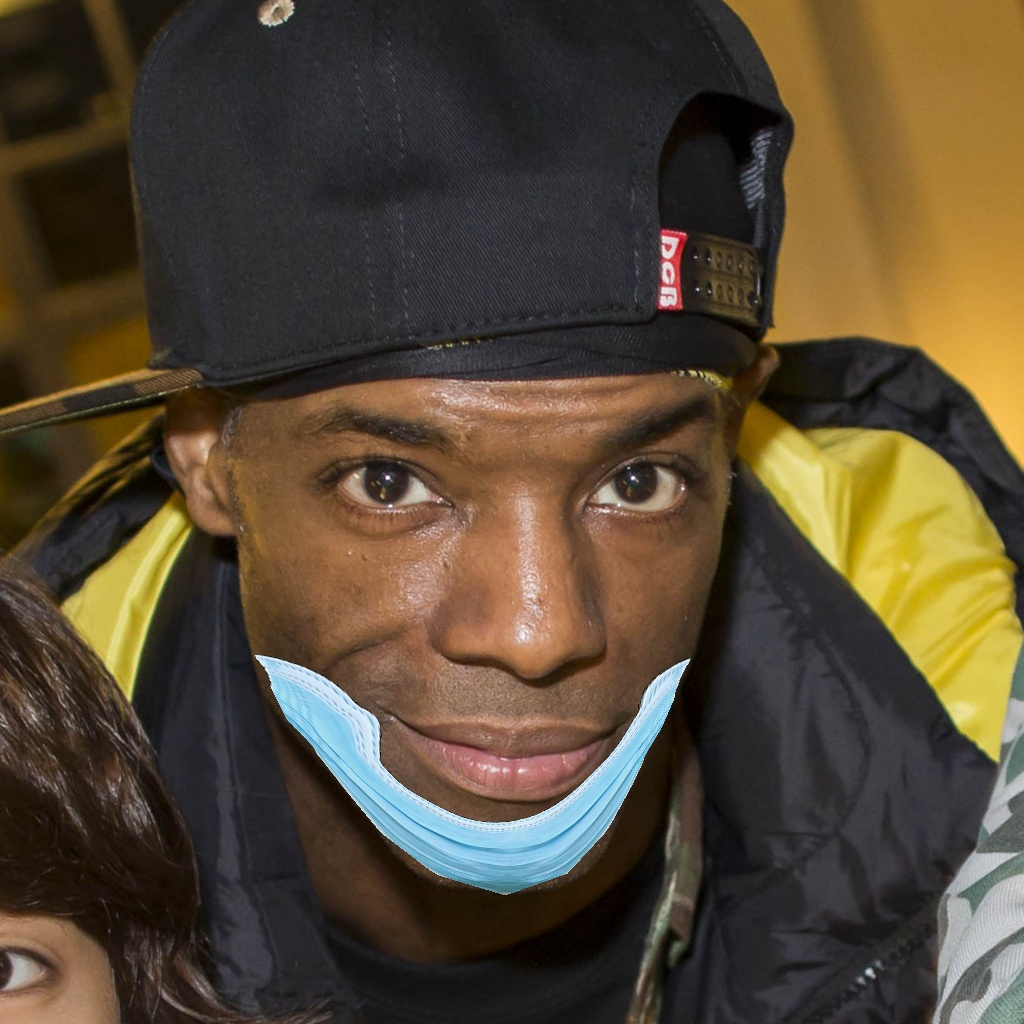mascarilla_mal_puesta: (204, 333, 759, 915)
